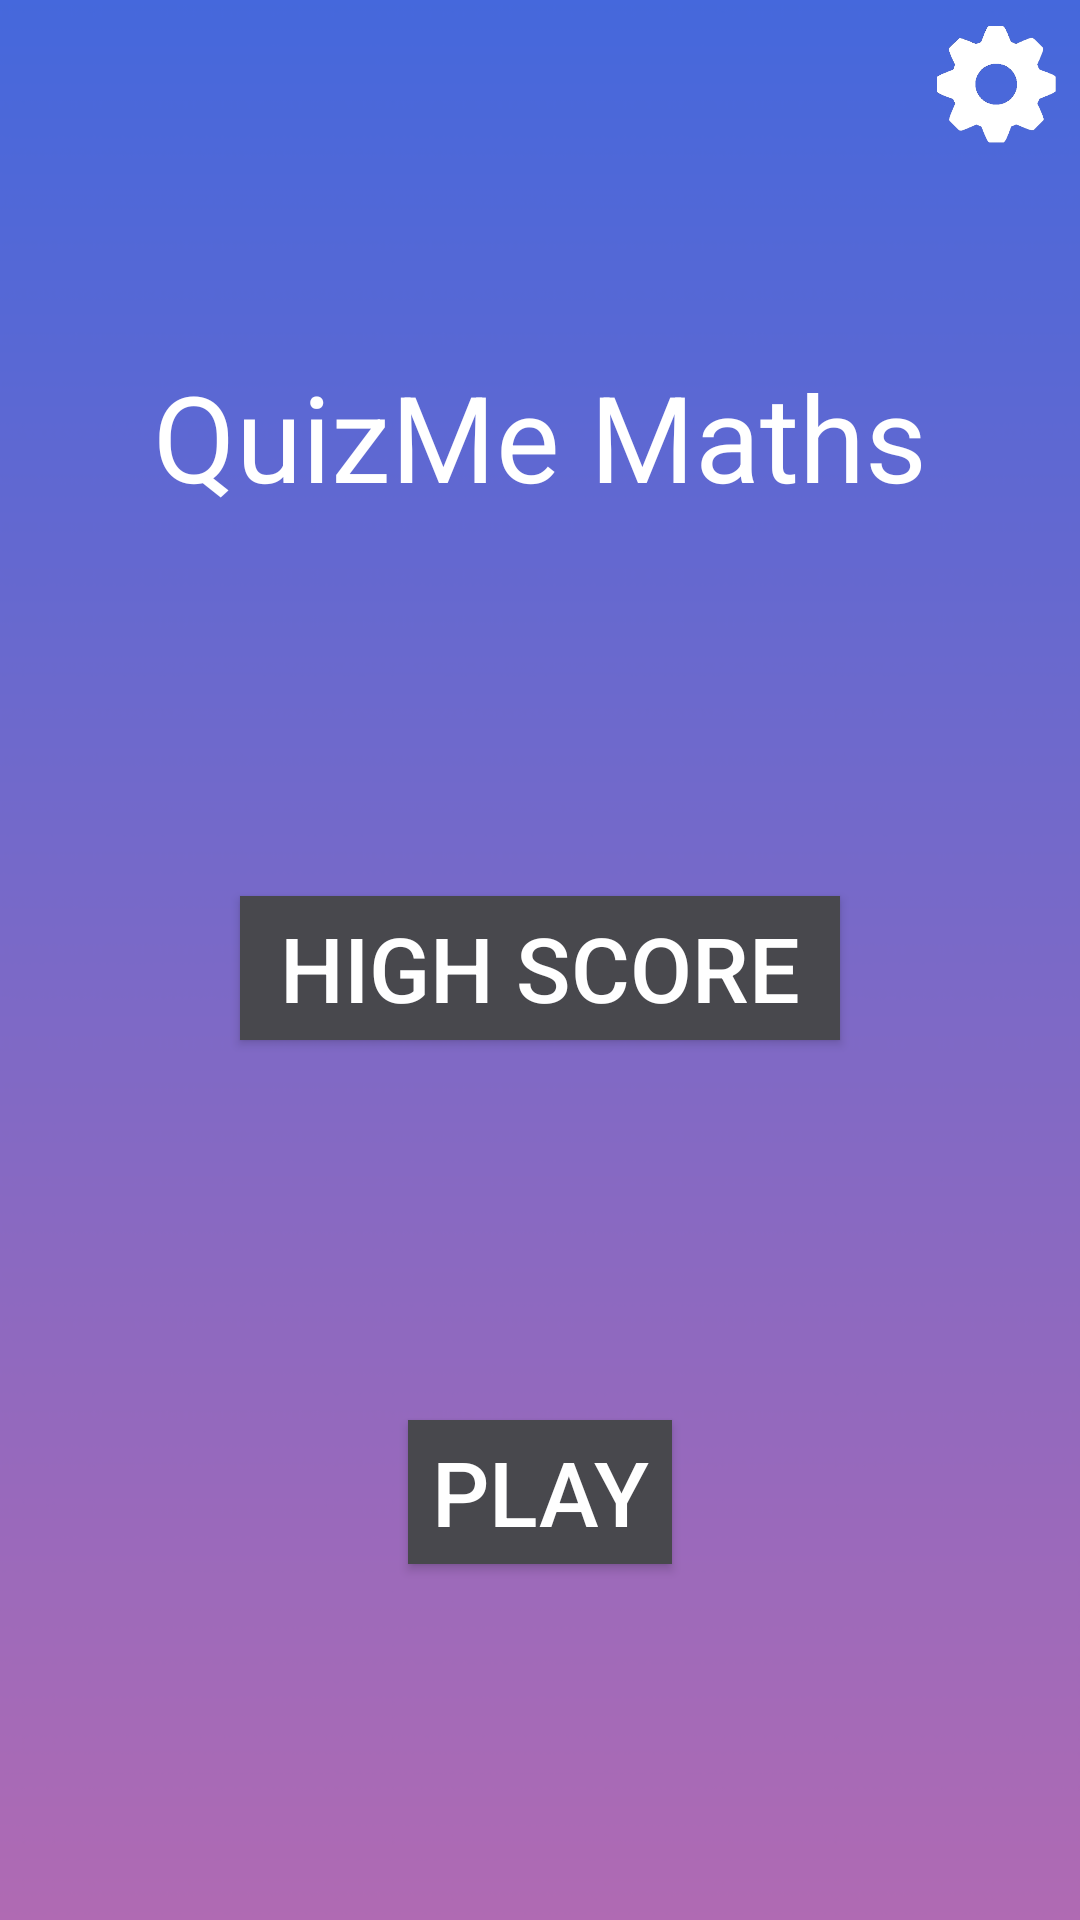

Icons on this 1080×1920 Android screen, each with the point to tap as point (x, y):
cog: point (996, 84)
